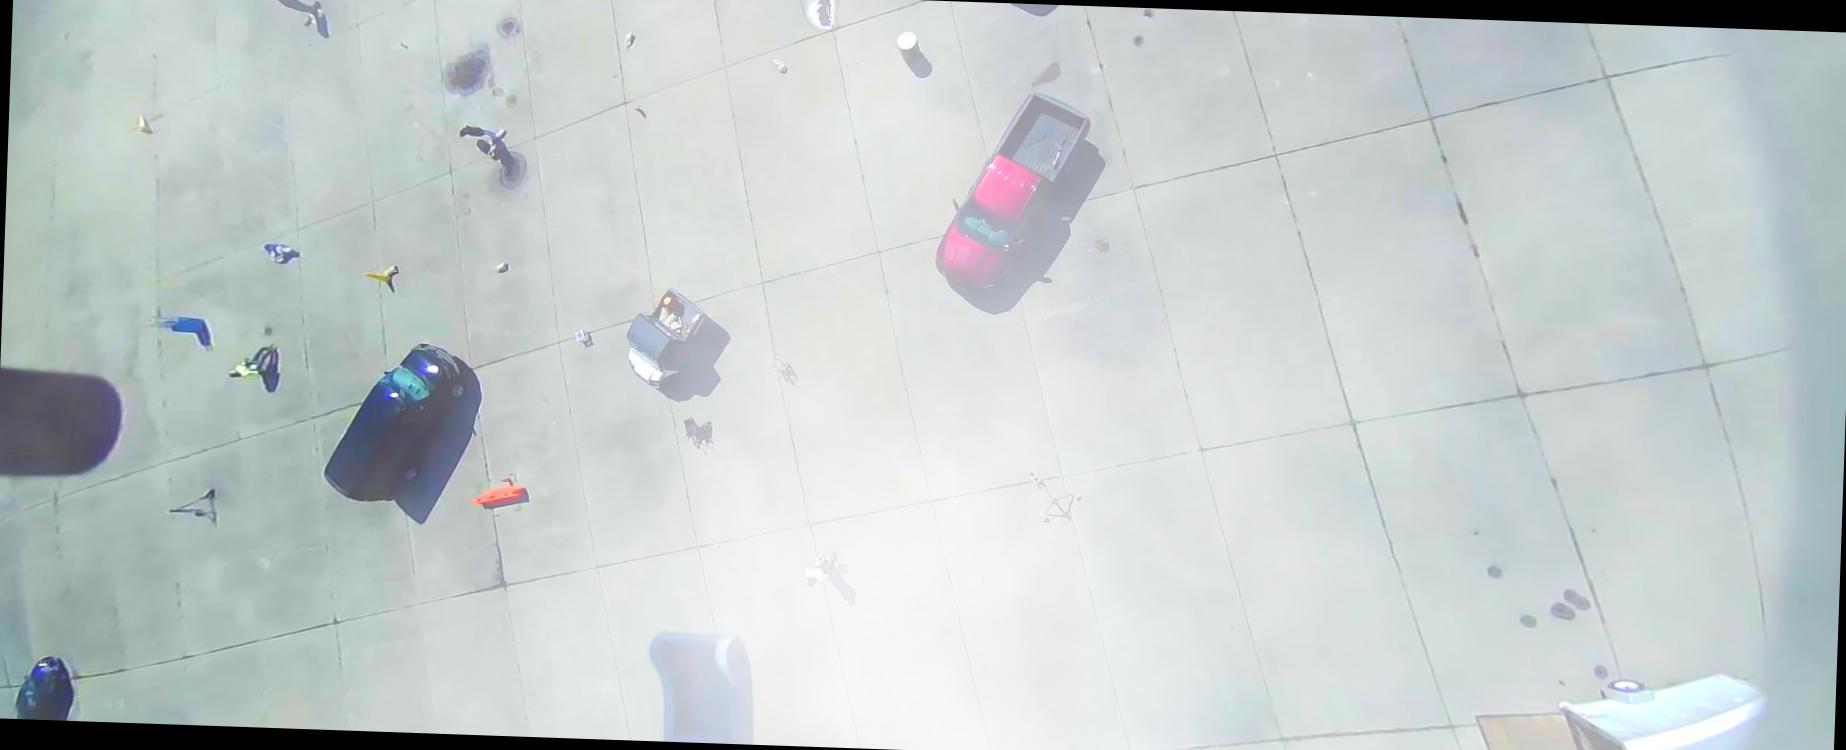vehicle: (934, 88, 1093, 293), (323, 340, 467, 506), (624, 286, 711, 391), (15, 655, 69, 719)
